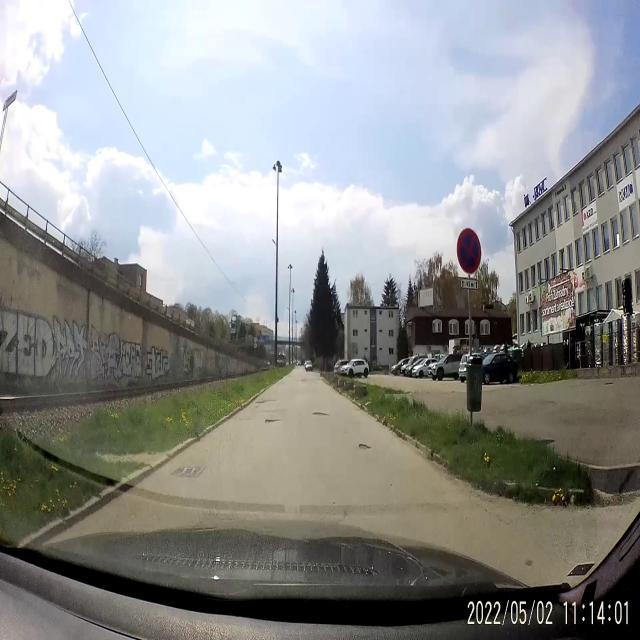Manhole: (170, 455, 208, 487)
Pothole: (256, 393, 276, 409), (310, 408, 332, 420), (262, 416, 284, 426), (356, 441, 374, 453), (299, 376, 310, 386)
